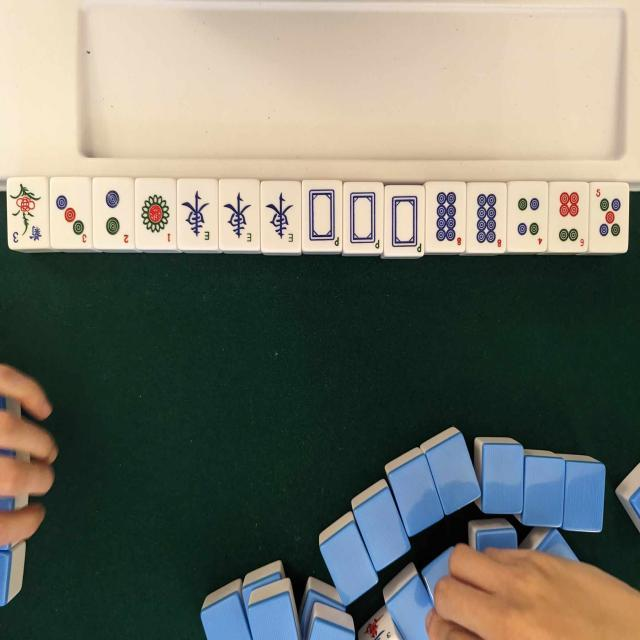bf3: (4, 183, 49, 252)
hdw: (342, 182, 382, 252), (386, 185, 426, 254), (304, 180, 342, 250)
hwe: (262, 182, 302, 250), (218, 181, 258, 249), (180, 180, 218, 247)
sd1: (138, 181, 176, 246)
sd2: (96, 180, 134, 246)
sd3: (52, 180, 92, 247)
sd4: (509, 183, 549, 252)
sd5: (590, 184, 628, 252)
sd6: (550, 184, 588, 251)
sd8: (426, 184, 464, 254), (470, 184, 508, 253)
